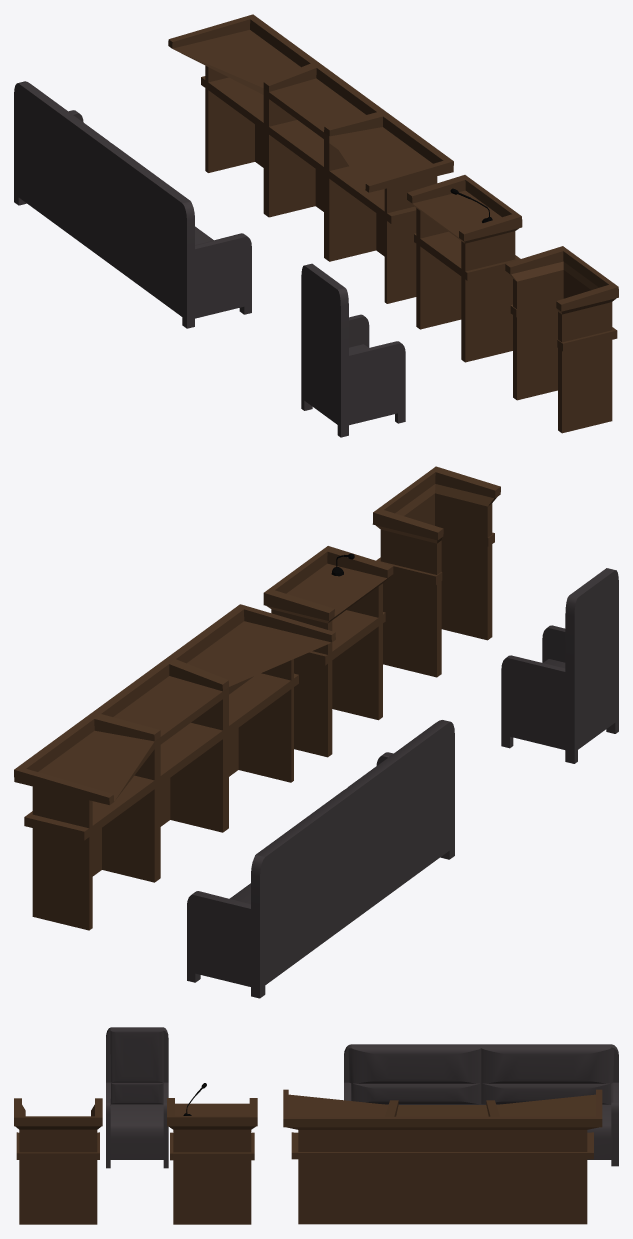
The model's file is table.fbx.
3 views of the same model, one above another, from view 1: azimuth 30°, elevation 25°; view 2: azimuth 150°, elevation 25°; view 3: azimuth 270°, elevation 25° (orthographic). The views are drawn at different scales.
Visible parts, largest first — view 1: table1, sofa, table3, table2, chair; view 2: table1, sofa, table3, table2, chair; view 3: table1, sofa, table2, table3, chair.
Part boxes in pixels (<box>): table1: <box>168,14,453,303</box>; sofa: <box>14,81,251,328</box>; table3: <box>505,246,618,433</box>; table2: <box>407,175,522,362</box>; chair: <box>301,263,405,437</box>; table1: <box>14,604,335,930</box>; sofa: <box>187,720,454,998</box>; table3: <box>372,466,500,677</box>; table2: <box>263,546,393,757</box>; chair: <box>501,568,618,763</box>; table1: <box>283,1089,602,1224</box>; sofa: <box>344,1044,618,1166</box>; table2: <box>167,1098,257,1224</box>; table3: <box>14,1098,102,1224</box>; chair: <box>106,1027,168,1168</box>.
Size of the model in its own units: 1776 by 1193 by 5118.
